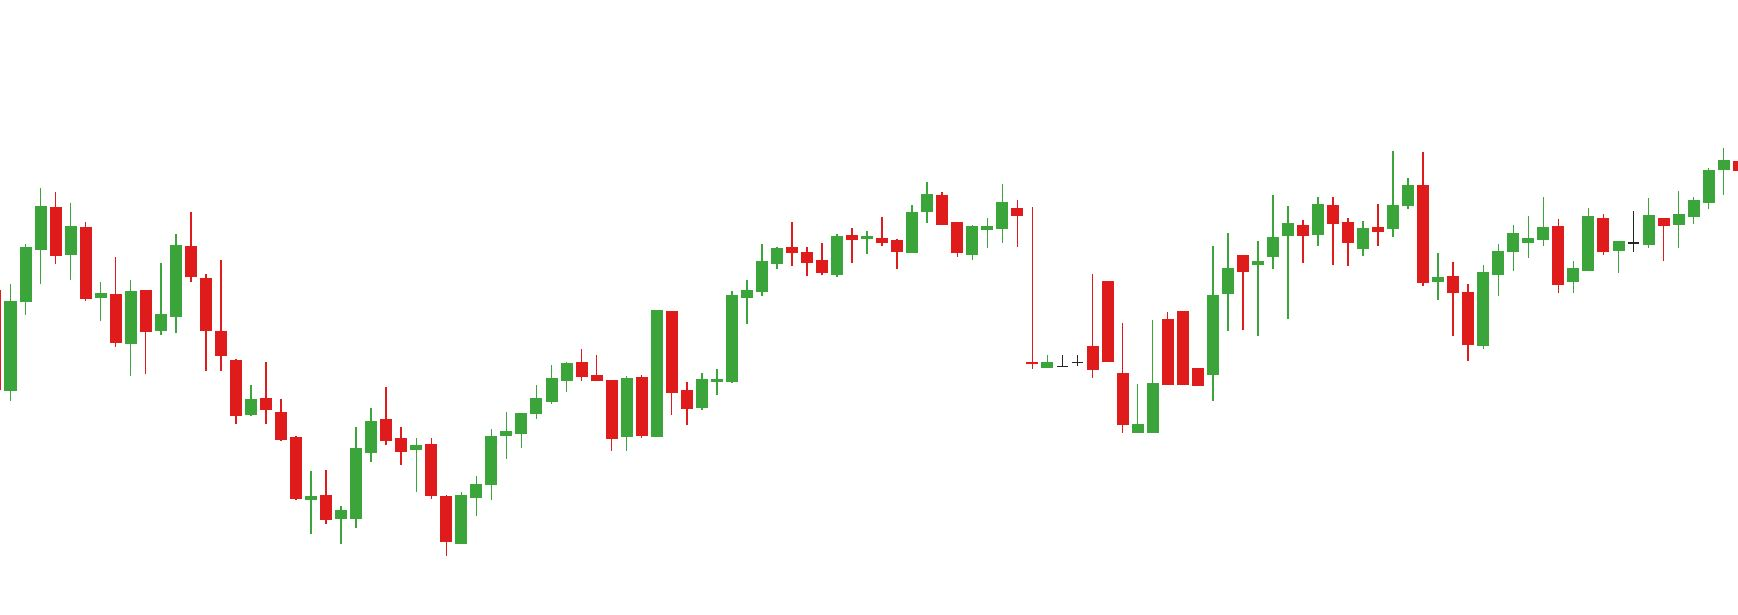buy: (315, 437, 470, 556)
